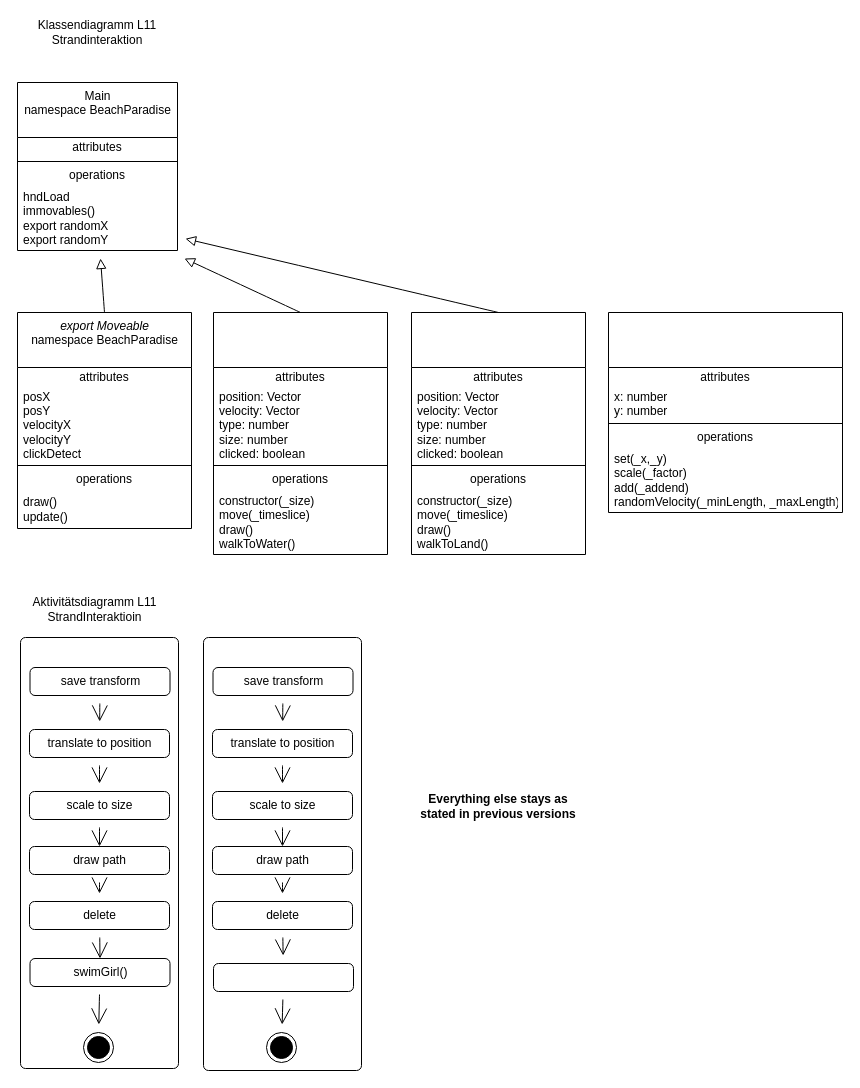
The diagram is 860 pixels wide and 1088 high, and some of its shapes have lost their labels. Each missing label, with the box of its shape:
beachGirl: (212, 962, 354, 992)
export BeachGirl namespace BeachParadise: (212, 312, 388, 554)
export SwimGirl namespace BeachParadise: (410, 312, 586, 554)
export Vector namespace BeachParadise: (608, 312, 842, 512)
walkFromWater: (202, 636, 362, 1070)
walkToWater: (20, 636, 178, 1068)
